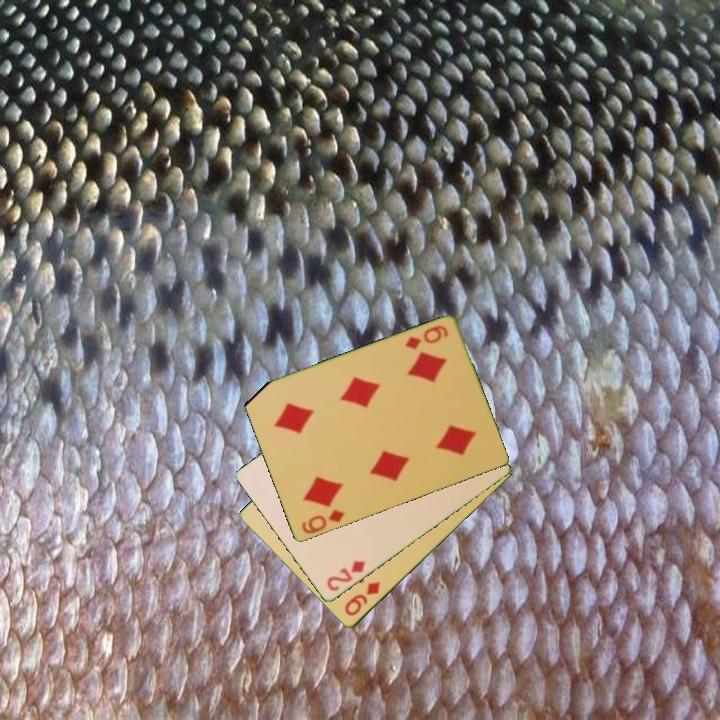2d: (323, 557, 368, 594)
6d: (401, 322, 451, 353), (298, 506, 347, 537)
9d: (341, 578, 383, 619)
